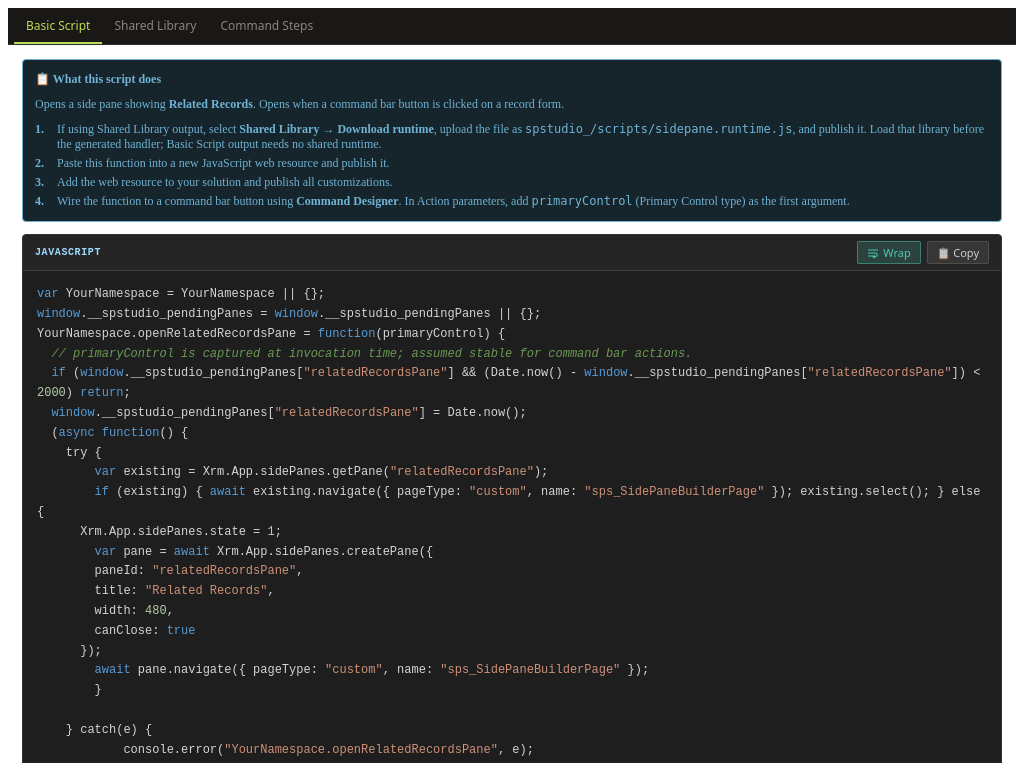
Scenario: OutputPanel › shows prerequisite warning when shared runtime is confirmed missing
Click the tab "Shared Library": (155, 26) [102,8,208,44]
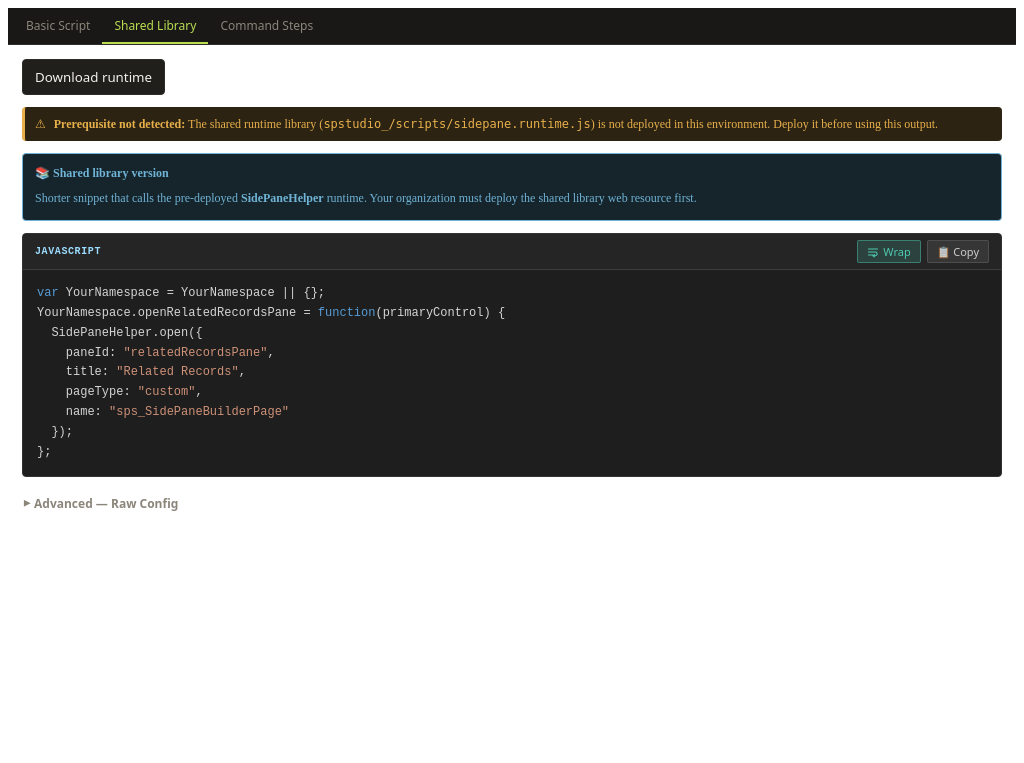
expect the text "Prerequisite not detected" is shown: met, box [54,117,185,131]
